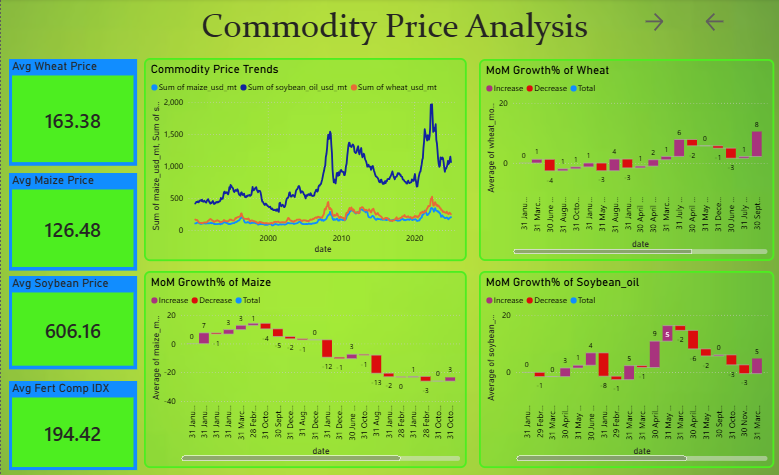

Layout of this report page (visuals, bound fields, positions):
{"tool":"powerbi","page":{"name":"Commodity Price Analysis","canvas":[1280,790],"ordinal":2},"visuals":[{"type":"lineChart","title":"Commodity Price Trends","fields":{"Category":["food_security_panel (1).date.Variation.Date Hierarchy.Year"],"Y":["Sum(food_security_panel (1).maize_usd_mt)","Sum(food_security_panel (1).soybean_oil_usd_mt)","Sum(food_security_panel (1).wheat_usd_mt)"]},"box":[235.2,99.1,529.1,332.6],"z":0},{"type":"waterfallChart","title":"MoM Growth% of Wheat","fields":{"Y":["Avg(commodity_prices (1).wheat_mom_growth_pct)"],"Category":["commodity_prices (1).date.Variation.Date Hierarchy.Month"]},"box":[782.8,100.8,483.8,330.9],"z":1000},{"type":"waterfallChart","title":"MoM Growth% of Maize","fields":{"Category":["commodity_prices (1).date.Variation.Date Hierarchy.Month"],"Y":["Avg(commodity_prices (1).maize_mom_growth_pct)"]},"box":[235.2,446.8,529.1,322.5],"z":2000},{"type":"waterfallChart","title":"MoM Growth% of Soybean_oil","fields":{"Category":["commodity_prices (1).date.Variation.Date Hierarchy.Month"],"Y":["Avg(commodity_prices (1).soybean_oil_mom_growth_pct)"]},"box":[782.8,446.8,483.8,322.5],"z":3000},{"type":"cardVisual","title":"Avg Fert Comp IDX","fields":{"Data":["metrics.Avg fert comp idx"]},"box":[13.4,628.2,210,146.1],"z":4000},{"type":"cardVisual","title":"Avg Soybean Price","fields":{"Data":["metrics.Avg price soybean"]},"box":[13.4,455.2,210,152.9],"z":5000},{"type":"cardVisual","title":"Avg Maize Price","fields":{"Data":["metrics.Avg maize Price"]},"box":[13.4,287.2,210,159.6],"z":6000},{"type":"cardVisual","title":"Avg Wheat Price","fields":{"Data":["metrics.Avg Wheat Price"]},"box":[13.4,100.8,210,174.7],"z":7000},{"type":"textbox","title":"Commodity Price Analysis","box":[25.4,12,1241.3,71.7],"z":8000},{"type":"actionButton","box":[1050.6,19.7,100,39.3],"z":8001},{"type":"actionButton","box":[1150.6,19.7,100,39.3],"z":8002}]}

Visuals, with their boxes in screenshot pixels (x1, y1, x2, y2), scaled from the page's 1280x790 canvas onto the 779x475 screenshot:
"Commodity Price Trends" lineChart: box=[143, 60, 465, 260]
"MoM Growth% of Wheat" waterfallChart: box=[476, 61, 771, 260]
"MoM Growth% of Maize" waterfallChart: box=[143, 269, 465, 463]
"MoM Growth% of Soybean_oil" waterfallChart: box=[476, 269, 771, 463]
"Avg Fert Comp IDX" cardVisual: box=[8, 378, 136, 466]
"Avg Soybean Price" cardVisual: box=[8, 274, 136, 366]
"Avg Maize Price" cardVisual: box=[8, 173, 136, 269]
"Avg Wheat Price" cardVisual: box=[8, 61, 136, 166]
"Commodity Price Analysis" textbox: box=[15, 7, 771, 50]
actionButton: box=[639, 12, 700, 35]
actionButton: box=[700, 12, 761, 35]
